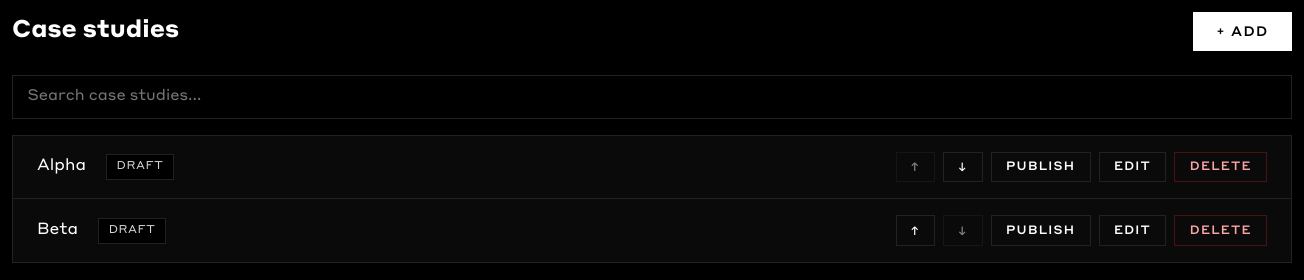
CollectionTab list › filters by the searchable fields
This screenshot has width=1304, height=280.
In the search field labelled "Search case studies...": (652,97) [12,75,1292,119], type "bet"
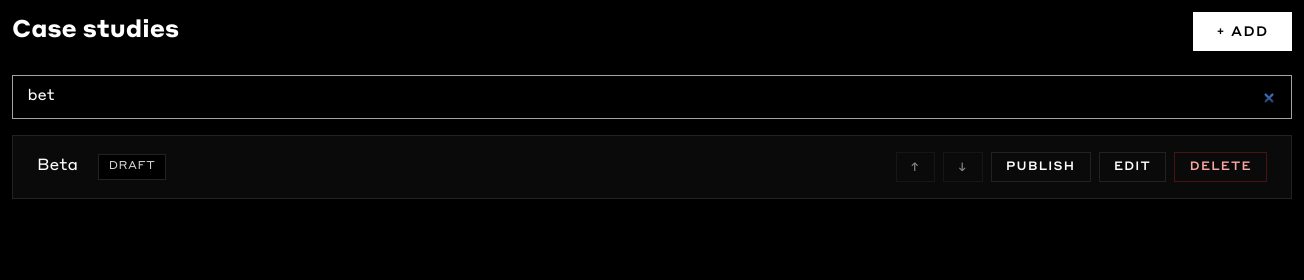
Check: the text "Beta" is shown, box [37,154,78,180]
Check: the text "Alpha" is gone
